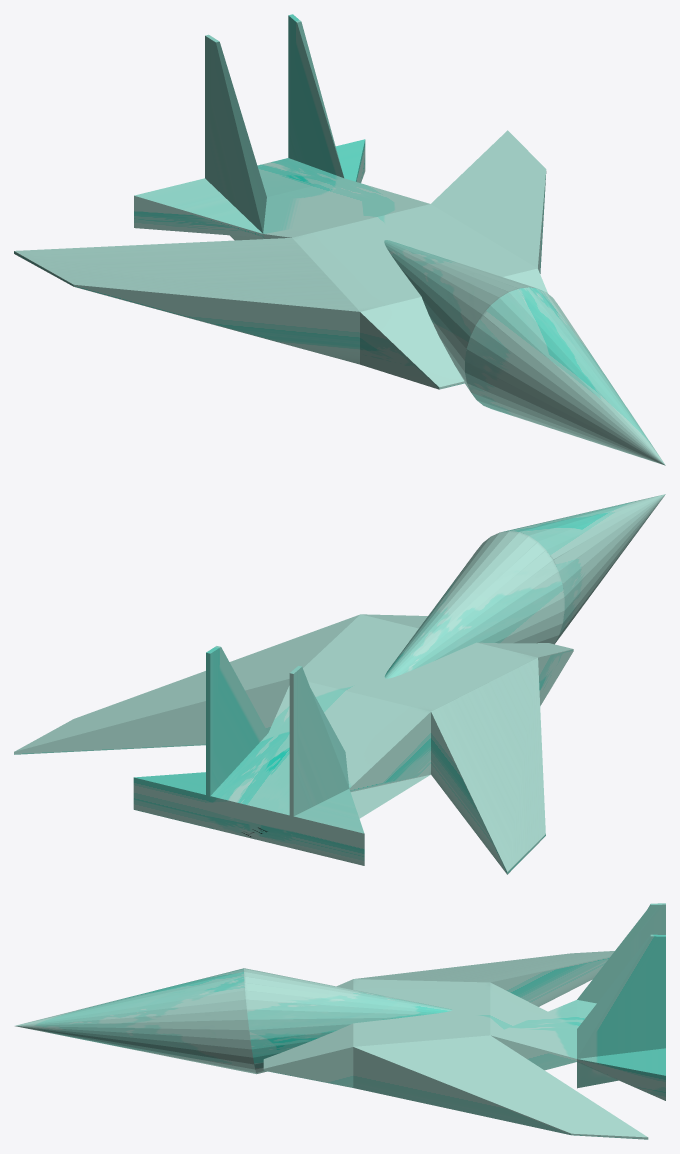
The picture shows the model from 3 angles, top to bottom: view 1: azimuth 30°, elevation 25°; view 2: azimuth 150°, elevation 25°; view 3: azimuth 270°, elevation 25°; orthographic projection. The views are drawn at different scales.
Visible parts, largest first — view 1: 円錐.001; view 2: 円錐.001; view 3: 円錐.001.
Part boxes in pixels (x1,y1,x2,y2): 円錐.001: (14, 14, 665, 465); 円錐.001: (14, 494, 665, 874); 円錐.001: (15, 903, 665, 1139).
Bounding box in the file's own units: 3.96 × 1.51 × 5.79.
1 material, 1 textured.
